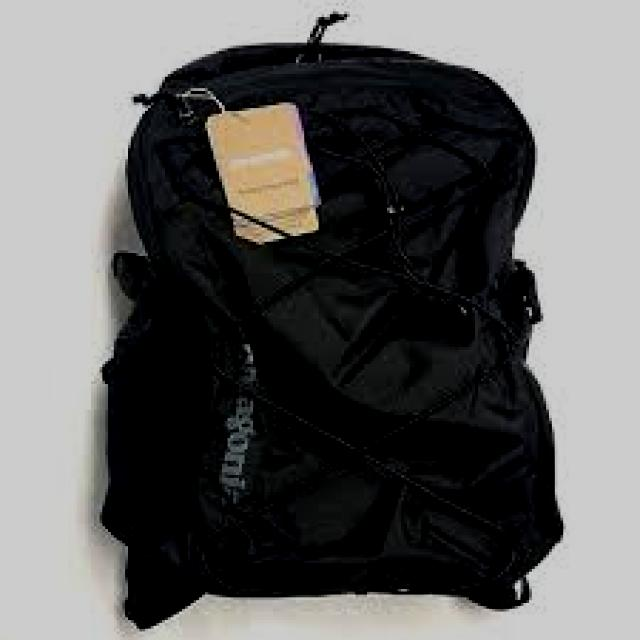backpack: (98, 10, 564, 627)
